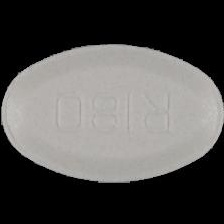0615-5574: (0, 0, 224, 224)
